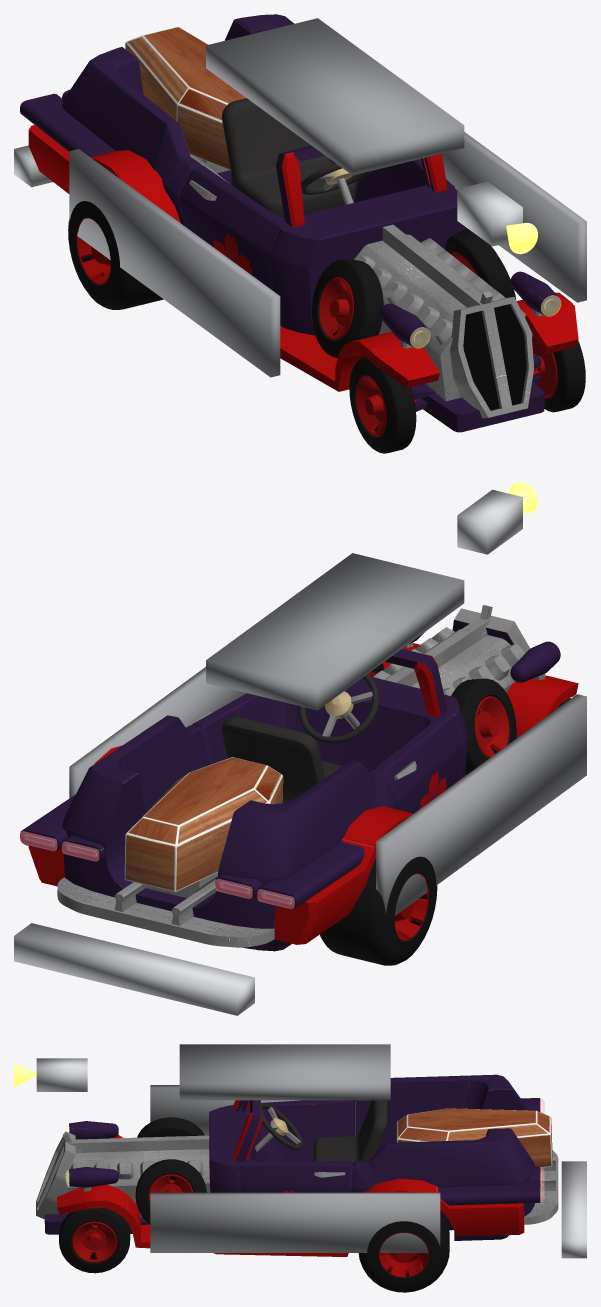
Rendered from mausoleum.glb.
The picture shows the model from 3 angles, top to bottom: view 1: azimuth 30°, elevation 25°; view 2: azimuth 150°, elevation 25°; view 3: azimuth 270°, elevation 25°; orthographic projection. The views are drawn at different scales.
Visible parts, largest first — view 1: mausoleum, mausoleum_Coffin, mausoleum_ArmorL, mausoleum_ArmorR, object 9, object 11, object 12, mausoleum_Mortar, object 8, mausoleum_Ram, mausoleum_MortarTip, object 13; view 2: mausoleum, mausoleum_Coffin, mausoleum_ArmorL, mausoleum_Ram, object 12, mausoleum_ArmorR, object 9, mausoleum_Mortar; view 3: mausoleum, mausoleum_ArmorR, mausoleum_Coffin, object 10, mausoleum_Ram, object 8, mausoleum_ArmorL, mausoleum_Mortar, object 9.
Boxes of the visible parts, x1,y1,x2,y2 form: mausoleum: (20, 14, 585, 432); mausoleum_Coffin: (206, 18, 464, 175); mausoleum_ArmorL: (69, 149, 280, 377); mausoleum_ArmorR: (442, 132, 586, 302); object 9: (312, 259, 383, 357); object 11: (349, 357, 416, 453); object 12: (68, 201, 163, 309); mausoleum_Mortar: (457, 181, 522, 246); object 8: (445, 229, 515, 299); mausoleum_Ram: (14, 145, 52, 187); mausoleum_MortarTip: (506, 222, 537, 254); object 13: (410, 295, 560, 348); mausoleum: (20, 605, 578, 951); mausoleum_Coffin: (206, 553, 464, 710); mausoleum_ArmorL: (376, 694, 586, 915); mausoleum_Ram: (14, 923, 254, 1015); object 12: (320, 856, 437, 965); mausoleum_ArmorR: (69, 667, 246, 798); object 9: (451, 678, 516, 774); mausoleum_Mortar: (457, 489, 522, 554); mausoleum: (36, 1074, 558, 1273); mausoleum_ArmorR: (150, 1192, 440, 1252); mausoleum_Coffin: (179, 1044, 390, 1100); object 10: (358, 1210, 449, 1292); mausoleum_Ram: (561, 1161, 586, 1258); object 8: (135, 1159, 206, 1223); mausoleum_ArmorL: (150, 1085, 300, 1135); mausoleum_Mortar: (36, 1058, 87, 1091); object 9: (137, 1117, 204, 1137).
Size of the model in its own units: 2.62 by 1.93 by 5.65.
Materials: 13 (7 with a texture image).
